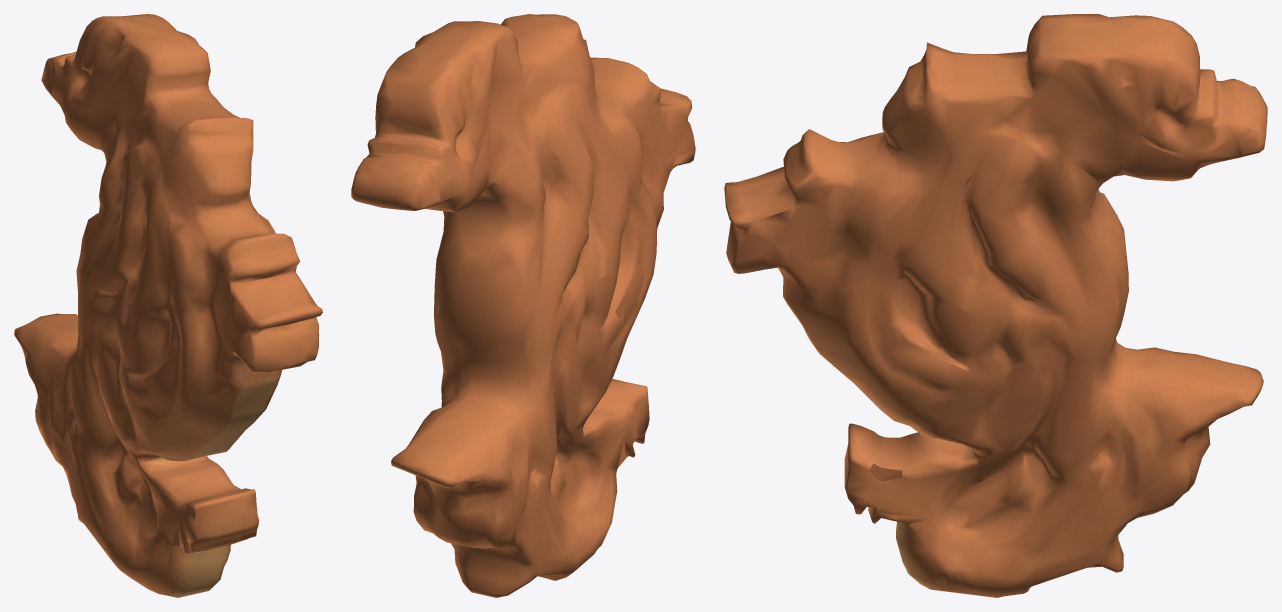
File: SM_Ground_AlUla.fbx
3 views of the same model, side by side, from view 1: azimuth 30°, elevation 25°; view 2: azimuth 150°, elevation 25°; view 3: azimuth 270°, elevation 25° (orthographic). The views are drawn at different scales.
Visible parts, largest first — view 1: tripo_node_bec1180e; view 2: tripo_node_bec1180e; view 3: tripo_node_bec1180e.
Part boxes in pixels (left/top/right/bottom): tripo_node_bec1180e: left=14, top=14, right=322, bottom=597; tripo_node_bec1180e: left=351, top=14, right=695, bottom=597; tripo_node_bec1180e: left=724, top=14, right=1267, bottom=597.
Bounding box in the file's own units: 24.9 × 100 × 84.67.
